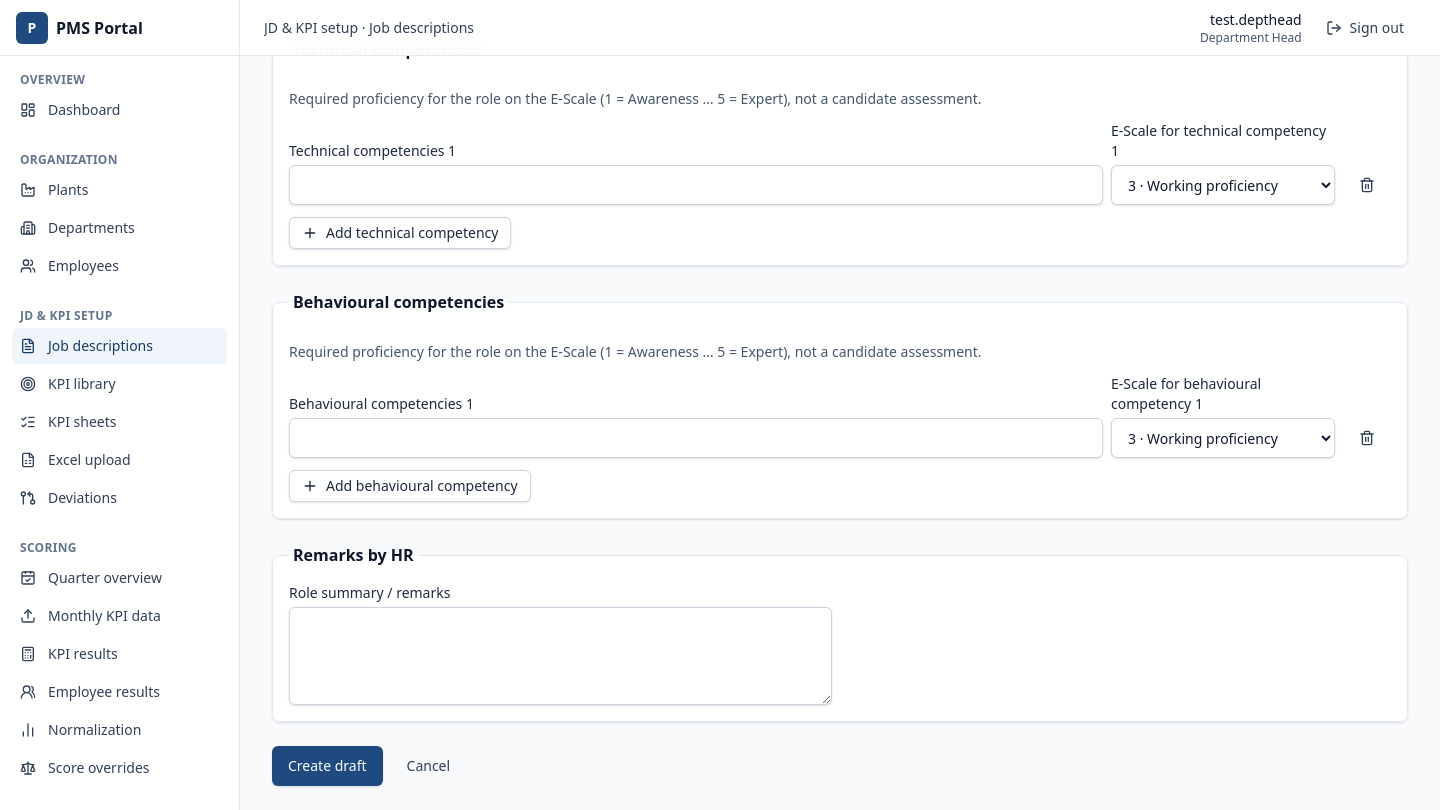
Test: JD editor › validates before sending and lists the problems
(page scrolled)
Click the button "Create draft".
click(327, 766)  # box [272,746,382,786]
(page scrolled)
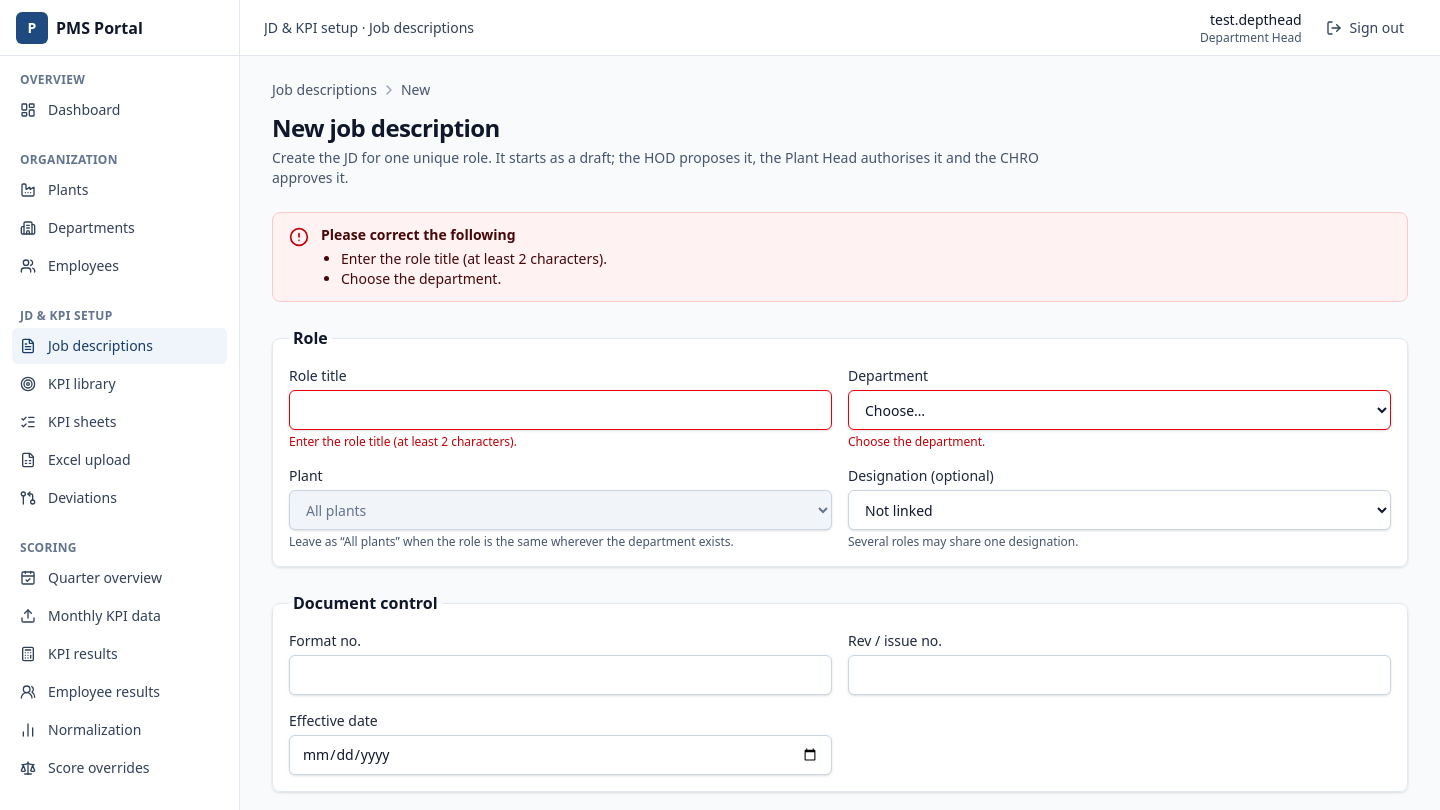
Check: the text "Please correct the following" is shown, box [321,225,516,244]
